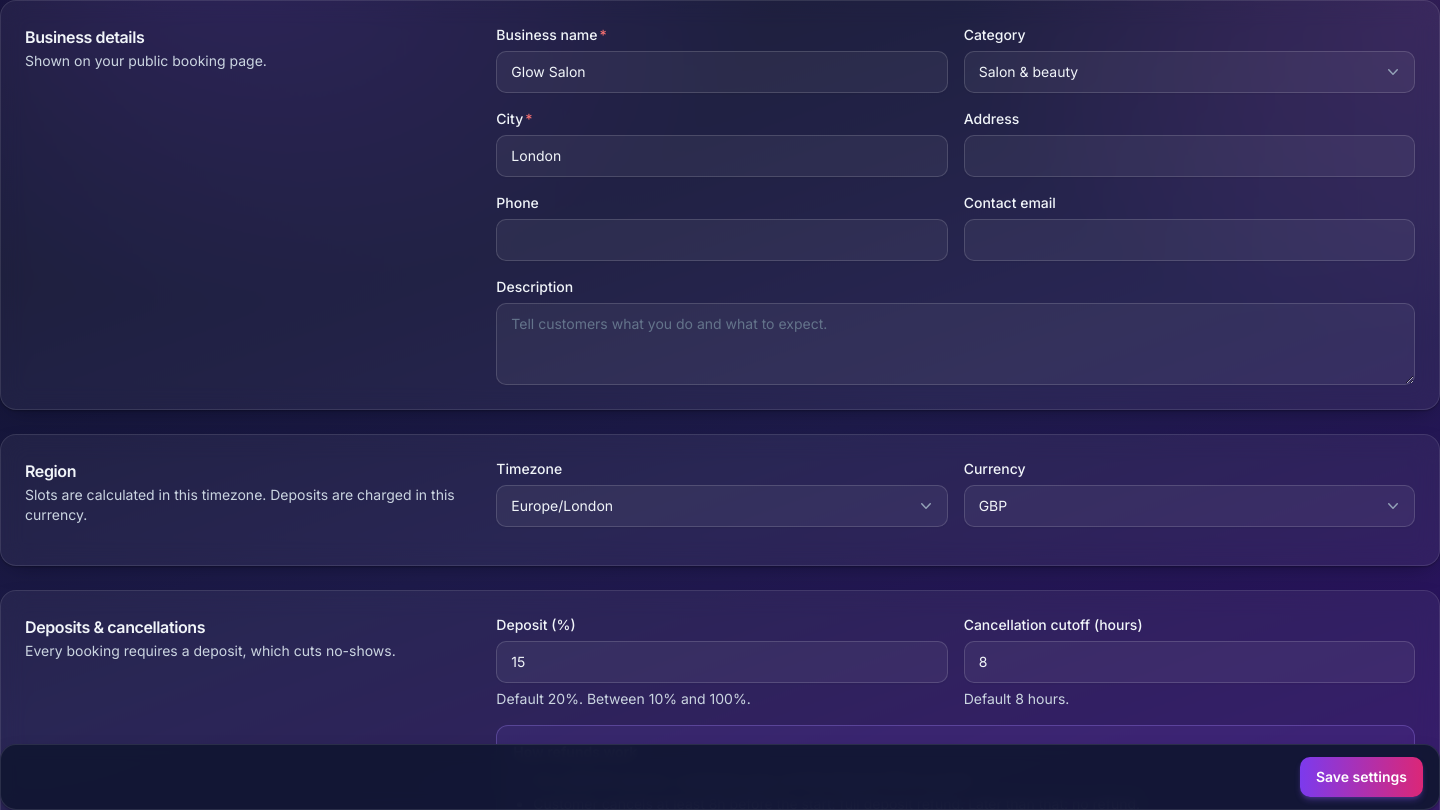
it: BusinessForm › blocks submit when deposit is below 10% and shows the error
Replace the text in the number field labelled "Deposit (%)" with "5": x=722, y=662 [496,641,948,683]
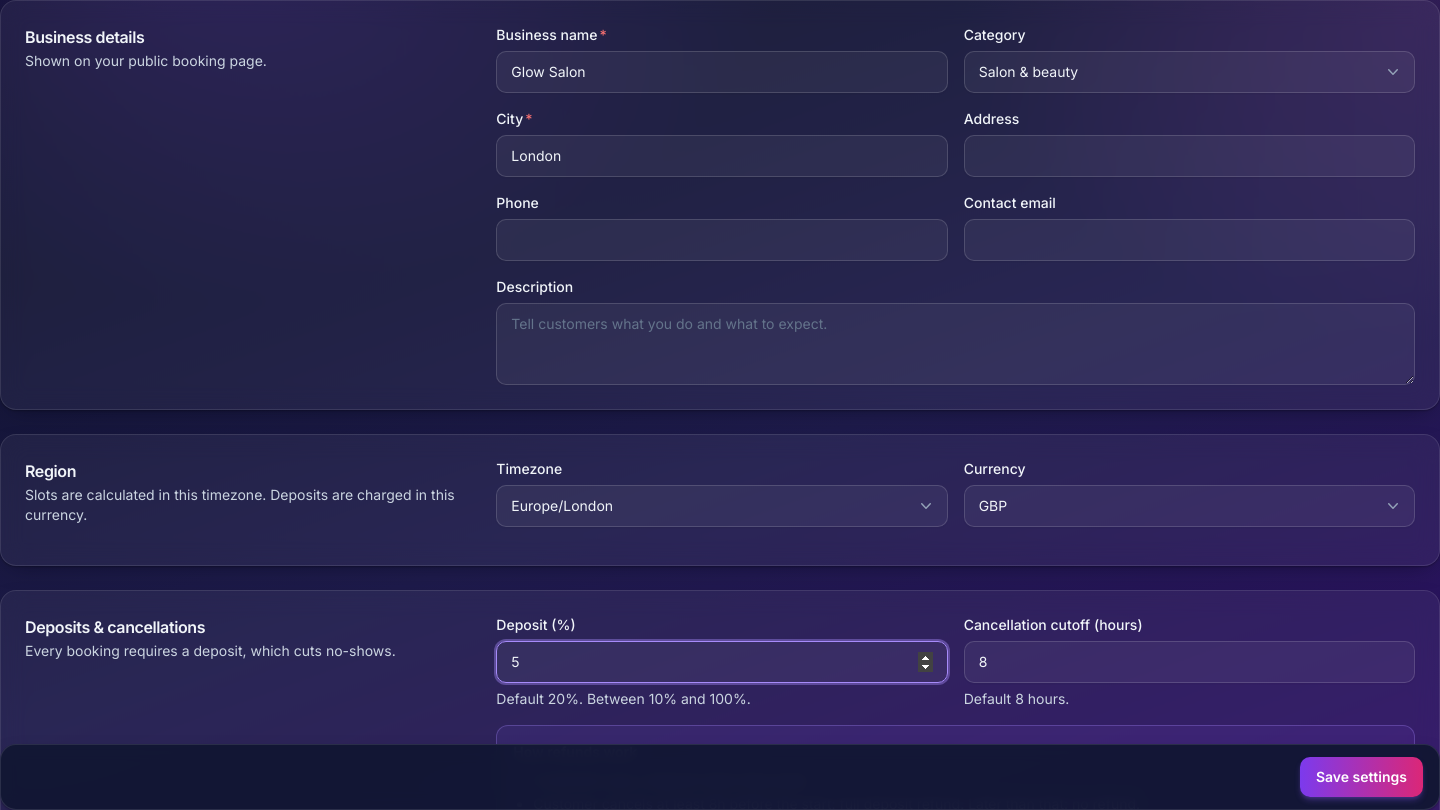
Click the button "Save settings": x=1361, y=777 [1300,757,1423,797]
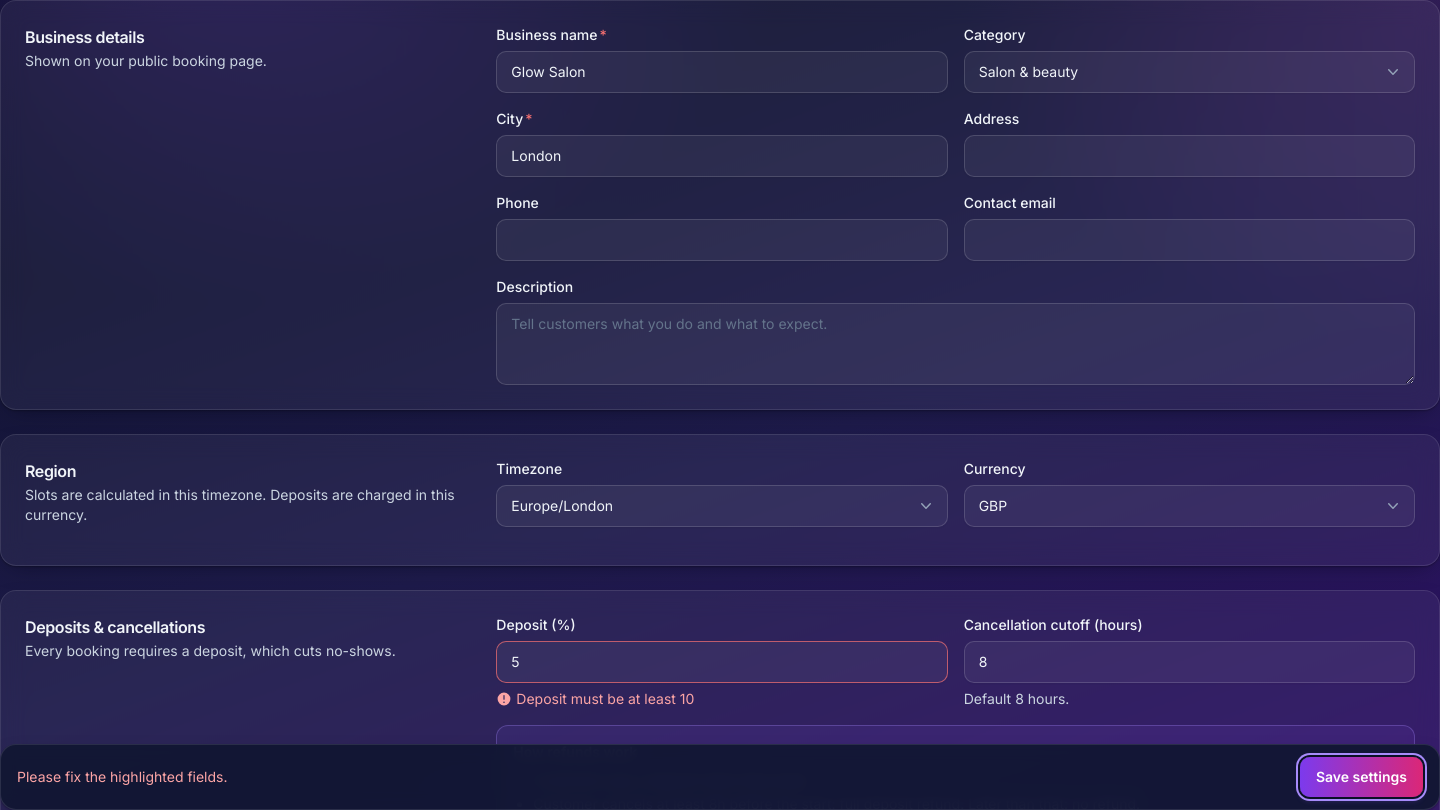
expect the text "Deposit must be at least 10" is shown: met, box [496,690,694,707]
